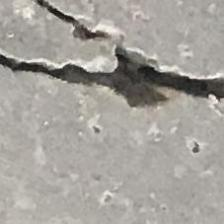Crack: (0, 0, 224, 115)
